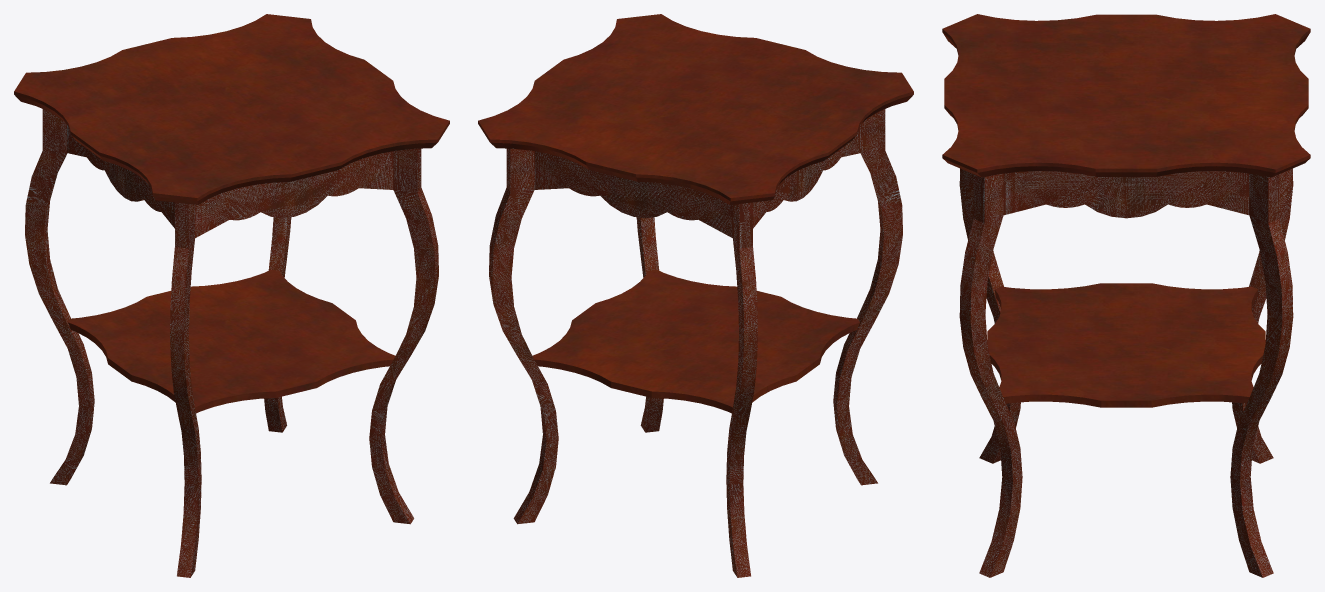
Rendered from EndTable.dae.
3 renders of one model, left to right at view 1: azimuth 30°, elevation 25°; view 2: azimuth 150°, elevation 25°; view 3: azimuth 270°, elevation 25°, orthographic. The views are drawn at different scales.
Visible parts, largest first — view 1: Table (×3), Wooden_Slot, Leg (×4); view 2: Table (×3), Wooden_Slot, Leg (×4); view 3: Table (×2), Wooden_Slot, Leg (×4).
Part boxes in pixels (box(x1,y1,x2,y2)): Table (×3): box(14, 14, 449, 238); Wooden_Slot: box(68, 269, 395, 413); Leg (×4): box(25, 109, 438, 577); Table (×3): box(478, 14, 913, 238); Wooden_Slot: box(532, 269, 859, 413); Leg (×4): box(489, 109, 902, 577); Table (×2): box(942, 14, 1310, 218); Wooden_Slot: box(987, 283, 1265, 407); Leg (×4): box(959, 168, 1293, 577).
Size of the model in its own units: 24 by 24 by 30.5.
